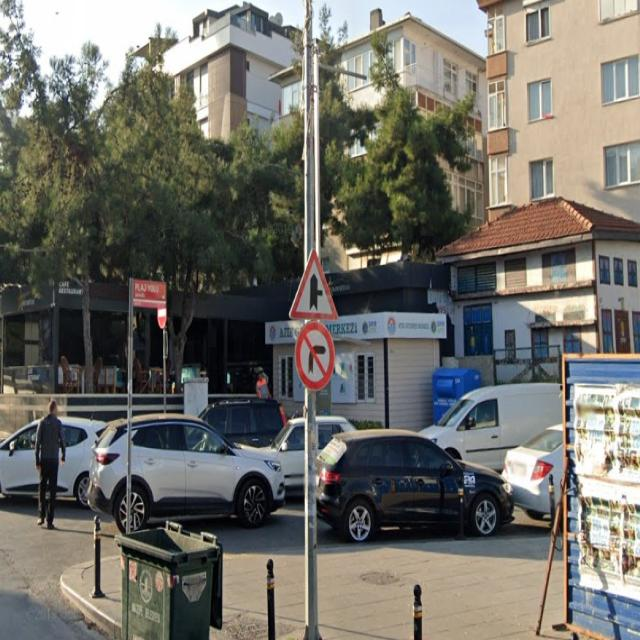girisyok: (157, 302, 167, 328)
sagadonulmez: (295, 321, 336, 391)
